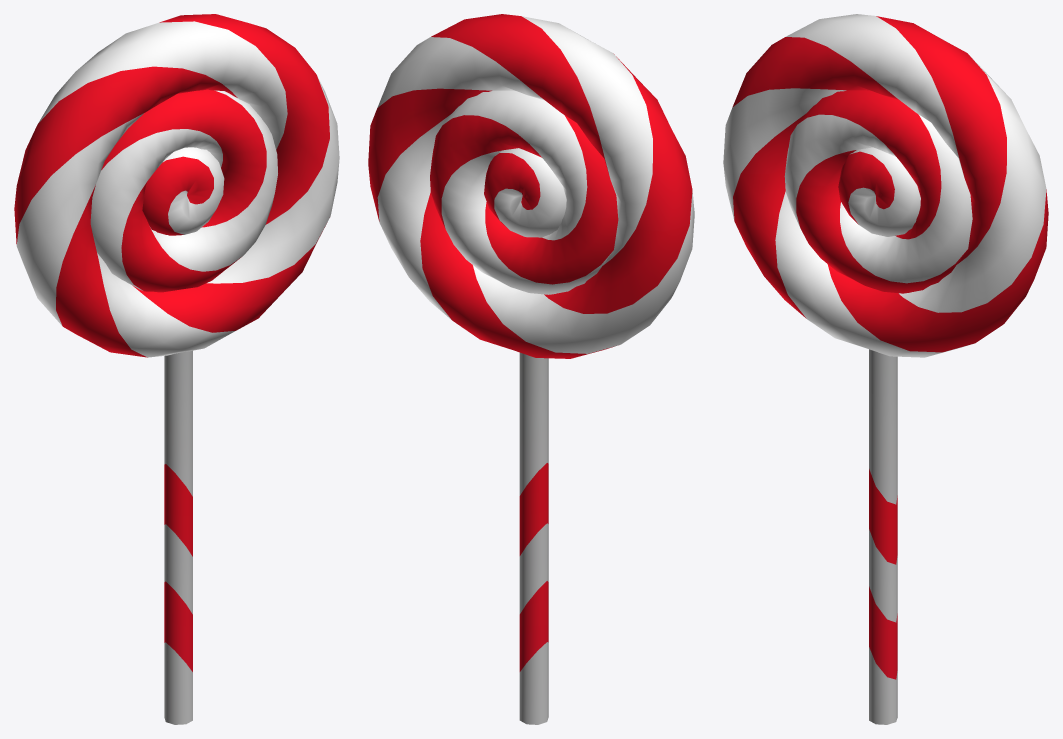
The model's file is lollipop_033.glb.
3 renders of one model, left to right at view 1: azimuth 30°, elevation 25°; view 2: azimuth 150°, elevation 25°; view 3: azimuth 330°, elevation 25°, orthographic.
Parts seen in each view (by area): view 1: lollipop_033; view 2: lollipop_033; view 3: lollipop_033.
Boxes of the visible parts, box(x1,y1,x2,y2) form: lollipop_033: box(14, 14, 339, 724); lollipop_033: box(368, 14, 694, 724); lollipop_033: box(723, 14, 1048, 724).
Bounding box in the file's own units: 4.28 × 9.03 × 0.9787.
1 material, 1 textured.
